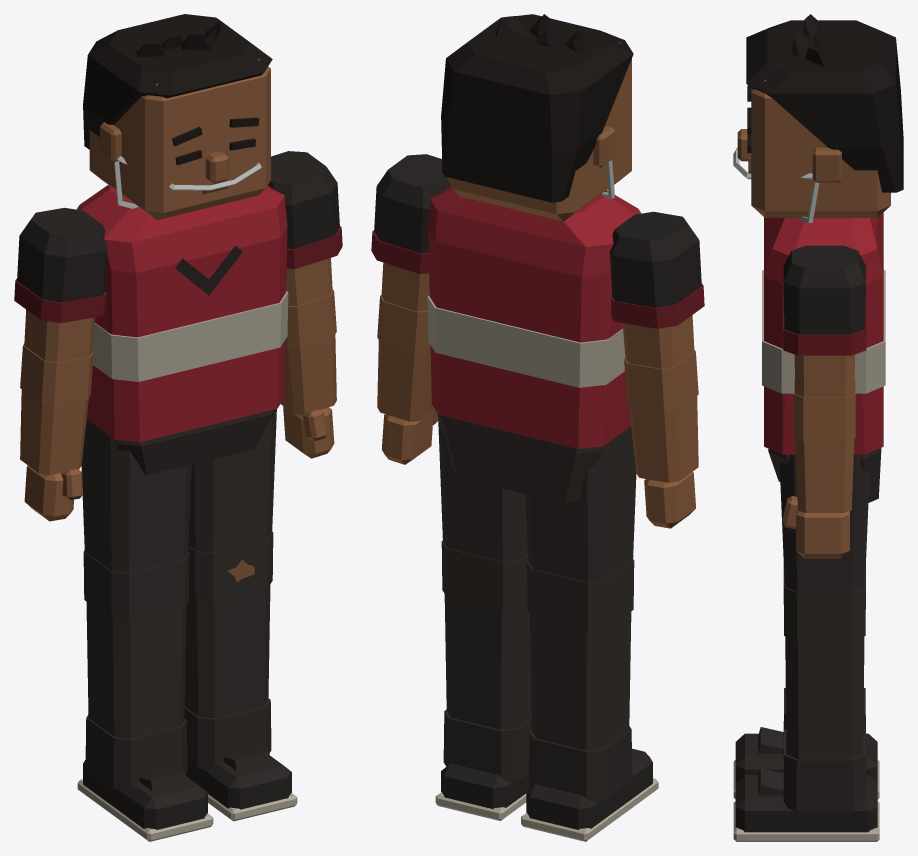
File: tl_char_fan_oxygen_v01.glb
3 renders of one model, left to right at view 1: azimuth 30°, elevation 25°; view 2: azimuth 150°, elevation 25°; view 3: azimuth 270°, elevation 25°, orthographic.
Visible parts, largest first — view 1: spine, head, leg_lower_r, leg_lower_l, leg_upper_r, arm_upper_r, arm_lower_r, leg_upper_l, arm_upper_l, arm_lower_l, hips; view 2: spine, head, leg_lower_r, leg_lower_l, arm_upper_r, leg_upper_r, arm_lower_r, hips, arm_upper_l, arm_lower_l, leg_upper_l; view 3: head, leg_lower_l, spine, arm_upper_l, arm_lower_l, leg_upper_l, leg_lower_r, hips.
Part boxes in pixels (x1,y1,x2,y2): spine: (76,185,288,442); head: (83,14,272,219); leg_lower_r: (77,550,213,841); leg_lower_l: (184,532,297,821); leg_upper_r: (81,419,191,573); arm_upper_r: (14,207,107,362); arm_lower_r: (20,344,93,521); leg_upper_l: (188,409,276,552); arm_upper_l: (268,151,342,306); arm_lower_l: (280,290,336,458); hips: (115,409,275,474); spine: (427,186,641,448); head: (441,14,633,221); leg_lower_r: (521,559,658,841); leg_lower_l: (435,540,531,820); arm_upper_r: (609,211,704,368); leg_upper_r: (525,426,636,582); arm_lower_r: (624,350,698,528); hips: (437,413,602,503); arm_upper_l: (371,154,450,311); arm_lower_l: (377,295,438,464); leg_upper_l: (438,416,527,561); head: (733,14,903,222); leg_lower_l: (733,564,879,841); spine: (762,212,885,454); arm_upper_l: (783,245,866,397); arm_lower_l: (782,380,855,558); leg_upper_l: (779,454,869,592); leg_lower_r: (733,688,879,799); hips: (768,448,881,502).
Size of the model in its own units: 0.7194 by 1.74 by 0.3469.
